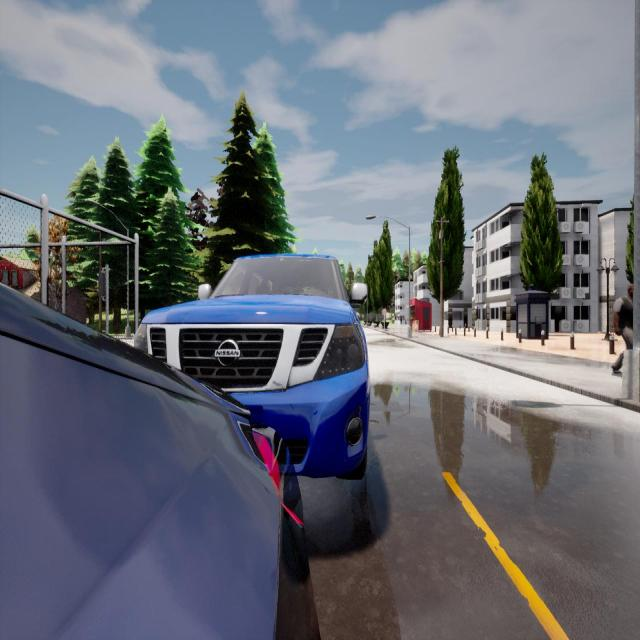Pedestrian: (612, 282, 634, 373)
Traffic_Signs: (382, 308, 386, 314)
Vehicle: (0, 283, 317, 637), (131, 254, 367, 478)
traffic_light: (98, 272, 105, 296)
